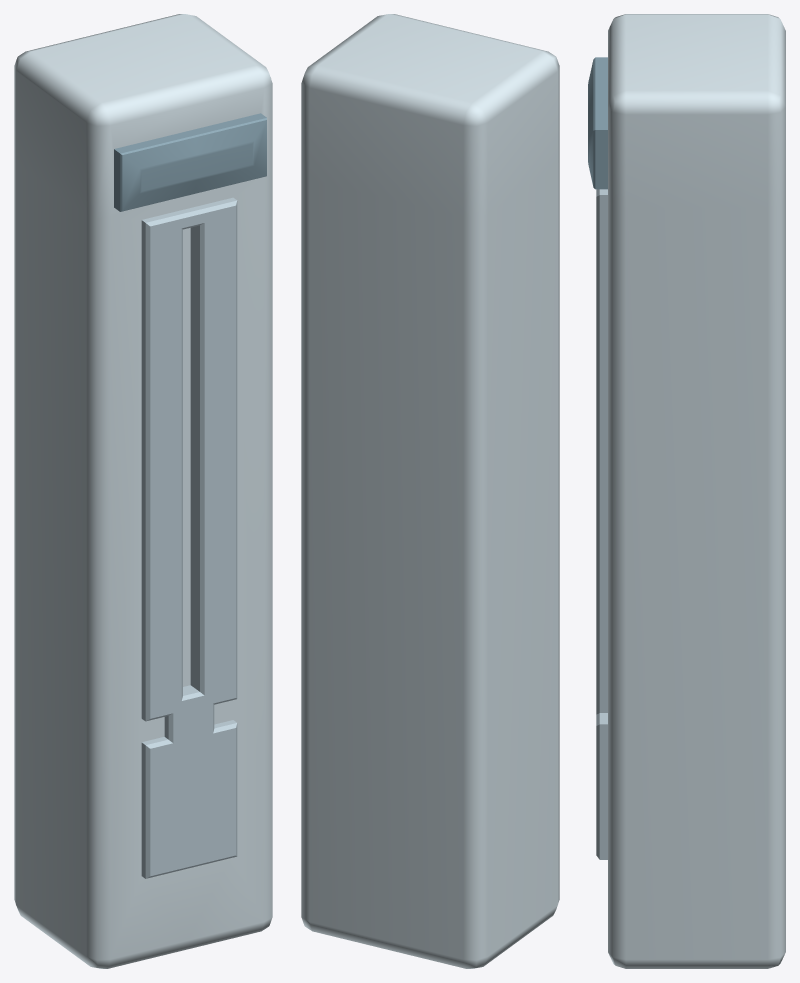
Rendered from Cooler_M.fbx.
3 views of the same model, side by side, from view 1: azimuth 30°, elevation 25°; view 2: azimuth 150°, elevation 25°; view 3: azimuth 270°, elevation 25° (orthographic).
Visible parts, largest first — view 1: Cooler_M; view 2: Cooler_M; view 3: Cooler_M.
Part boxes in pixels (x1,y1,x2,y2): Cooler_M: (14, 14, 272, 968); Cooler_M: (301, 14, 559, 968); Cooler_M: (588, 14, 785, 968).
Bounding box in the file's own units: 40.27 × 180 × 36.89.
1 material, 1 textured.
